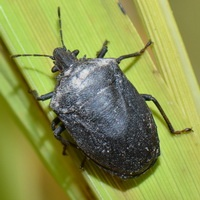insect: (136, 0, 199, 114), (52, 59, 112, 152)
